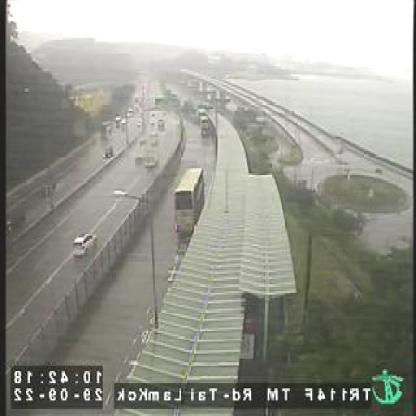Bus: (176, 168, 204, 239), (100, 119, 116, 144)
Car: (74, 232, 99, 264), (203, 113, 212, 140), (156, 118, 166, 132), (151, 134, 160, 149), (121, 119, 130, 132), (104, 151, 116, 158)
